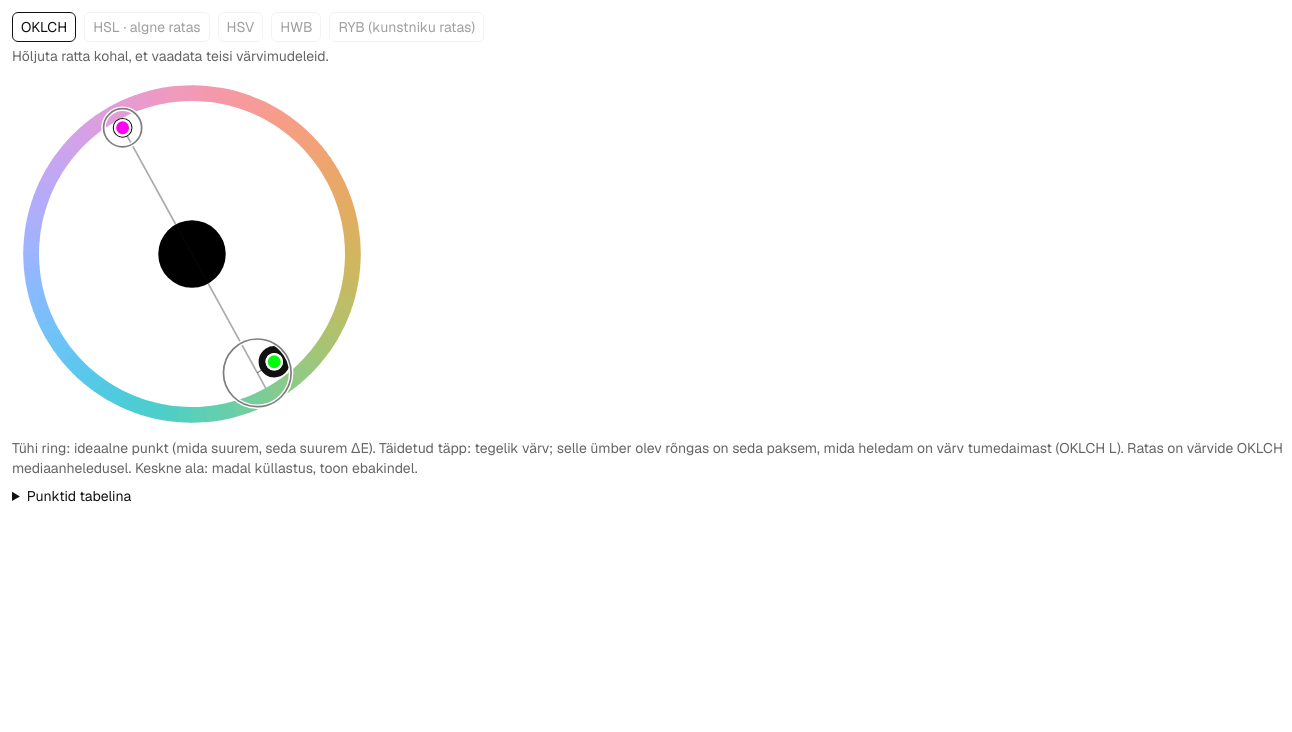
StructureWheel › defaults to OKLCH, offers the other models and marks the structure's original wheel
Click the button "HSL · algne ratas". click: (147, 27)
box: x1=84 y1=12 x2=210 y2=42
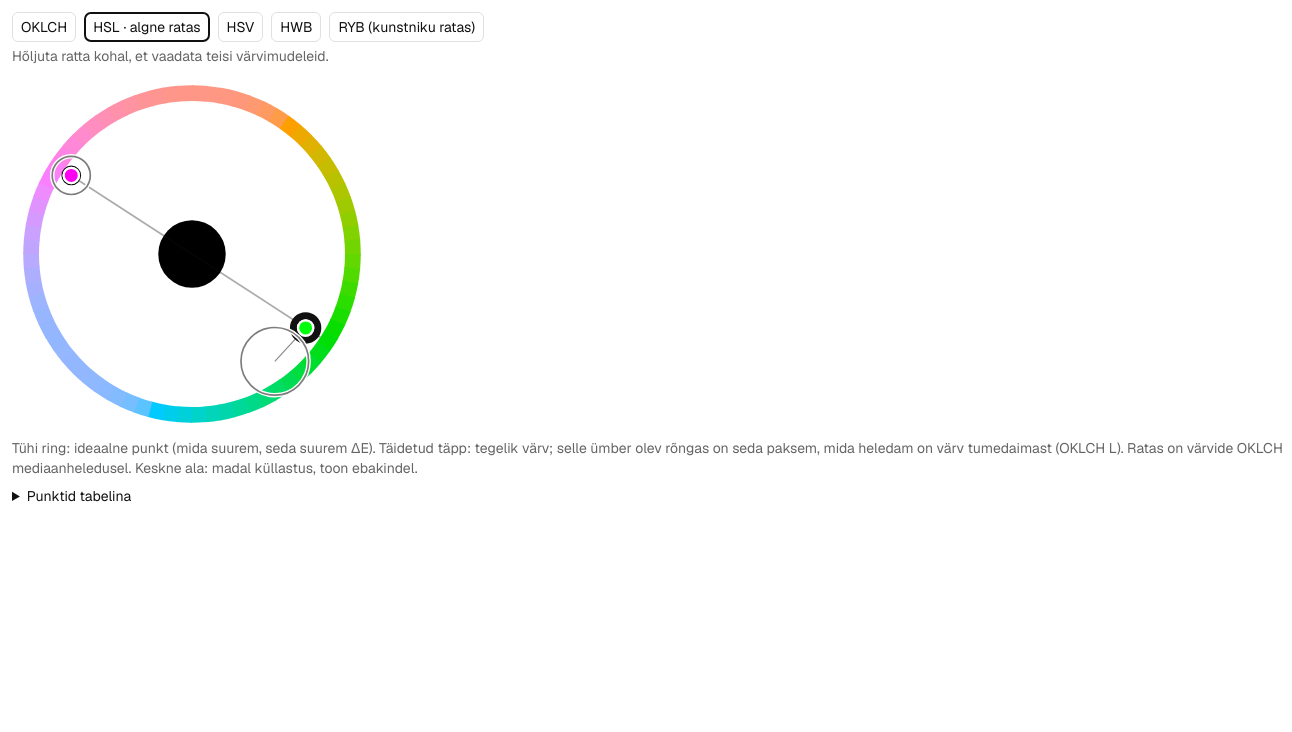
Expected: the button "HSL · algne ratas" is pressed, x1=84 y1=12 x2=210 y2=42
